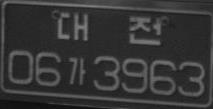0: (6, 49, 33, 85)
3: (177, 59, 205, 98), (92, 54, 120, 92)
6: (148, 58, 177, 96), (34, 50, 62, 87)
9: (121, 56, 148, 94)
가: (67, 56, 86, 85)
대전_D: (56, 11, 163, 46)
